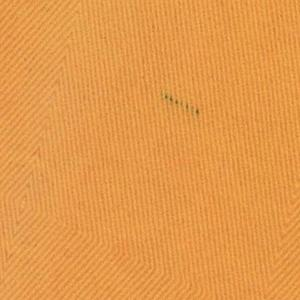stain: (161, 90, 200, 116)
